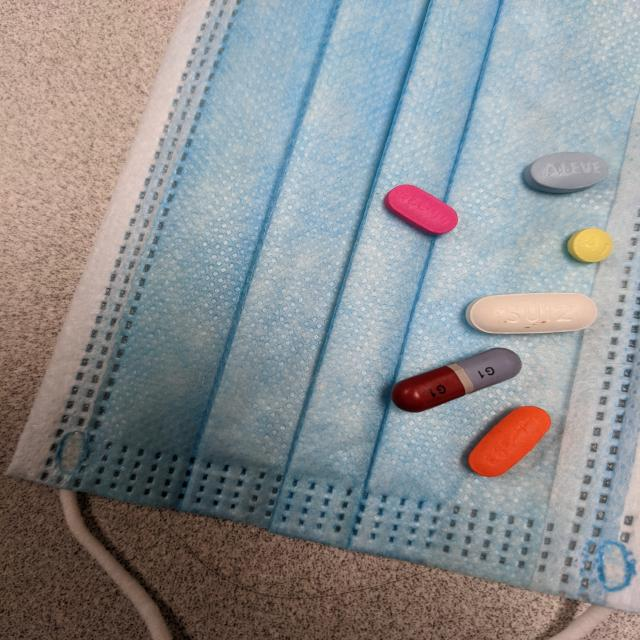non-organic waste: (390, 346, 524, 414), (467, 404, 552, 478), (464, 291, 598, 335), (521, 150, 611, 195), (383, 184, 459, 236), (566, 227, 614, 265)
